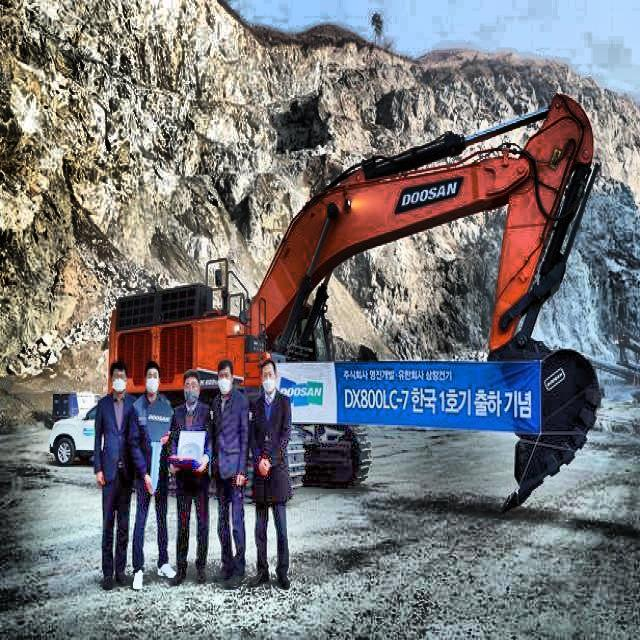bull_dozer/loader/grader: (107, 86, 606, 518)
person: (133, 357, 175, 596), (250, 356, 290, 594), (212, 356, 248, 594), (172, 371, 210, 593), (99, 358, 135, 592)
